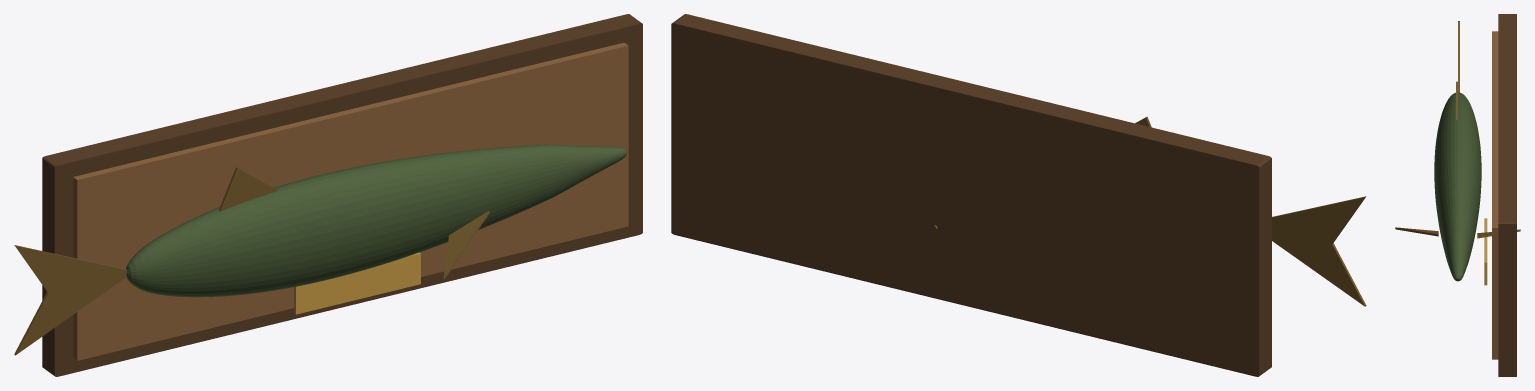
Rendered from trophaee_hecht.glb.
The picture shows the model from 3 angles, left to right: view 1: azimuth 30°, elevation 25°; view 2: azimuth 150°, elevation 25°; view 3: azimuth 270°, elevation 25°; orthographic projection. The views are drawn at different scales.
Visible parts, largest first — view 1: Cube; view 2: Cube; view 3: Cube.
Boxes of the visible parts, box(x1,y1,x2,y2) form: Cube: box(14, 14, 642, 376); Cube: box(671, 14, 1366, 376); Cube: box(1395, 14, 1520, 376).
Size of the model in its own units: 1.78 by 0.55 by 0.4044.
